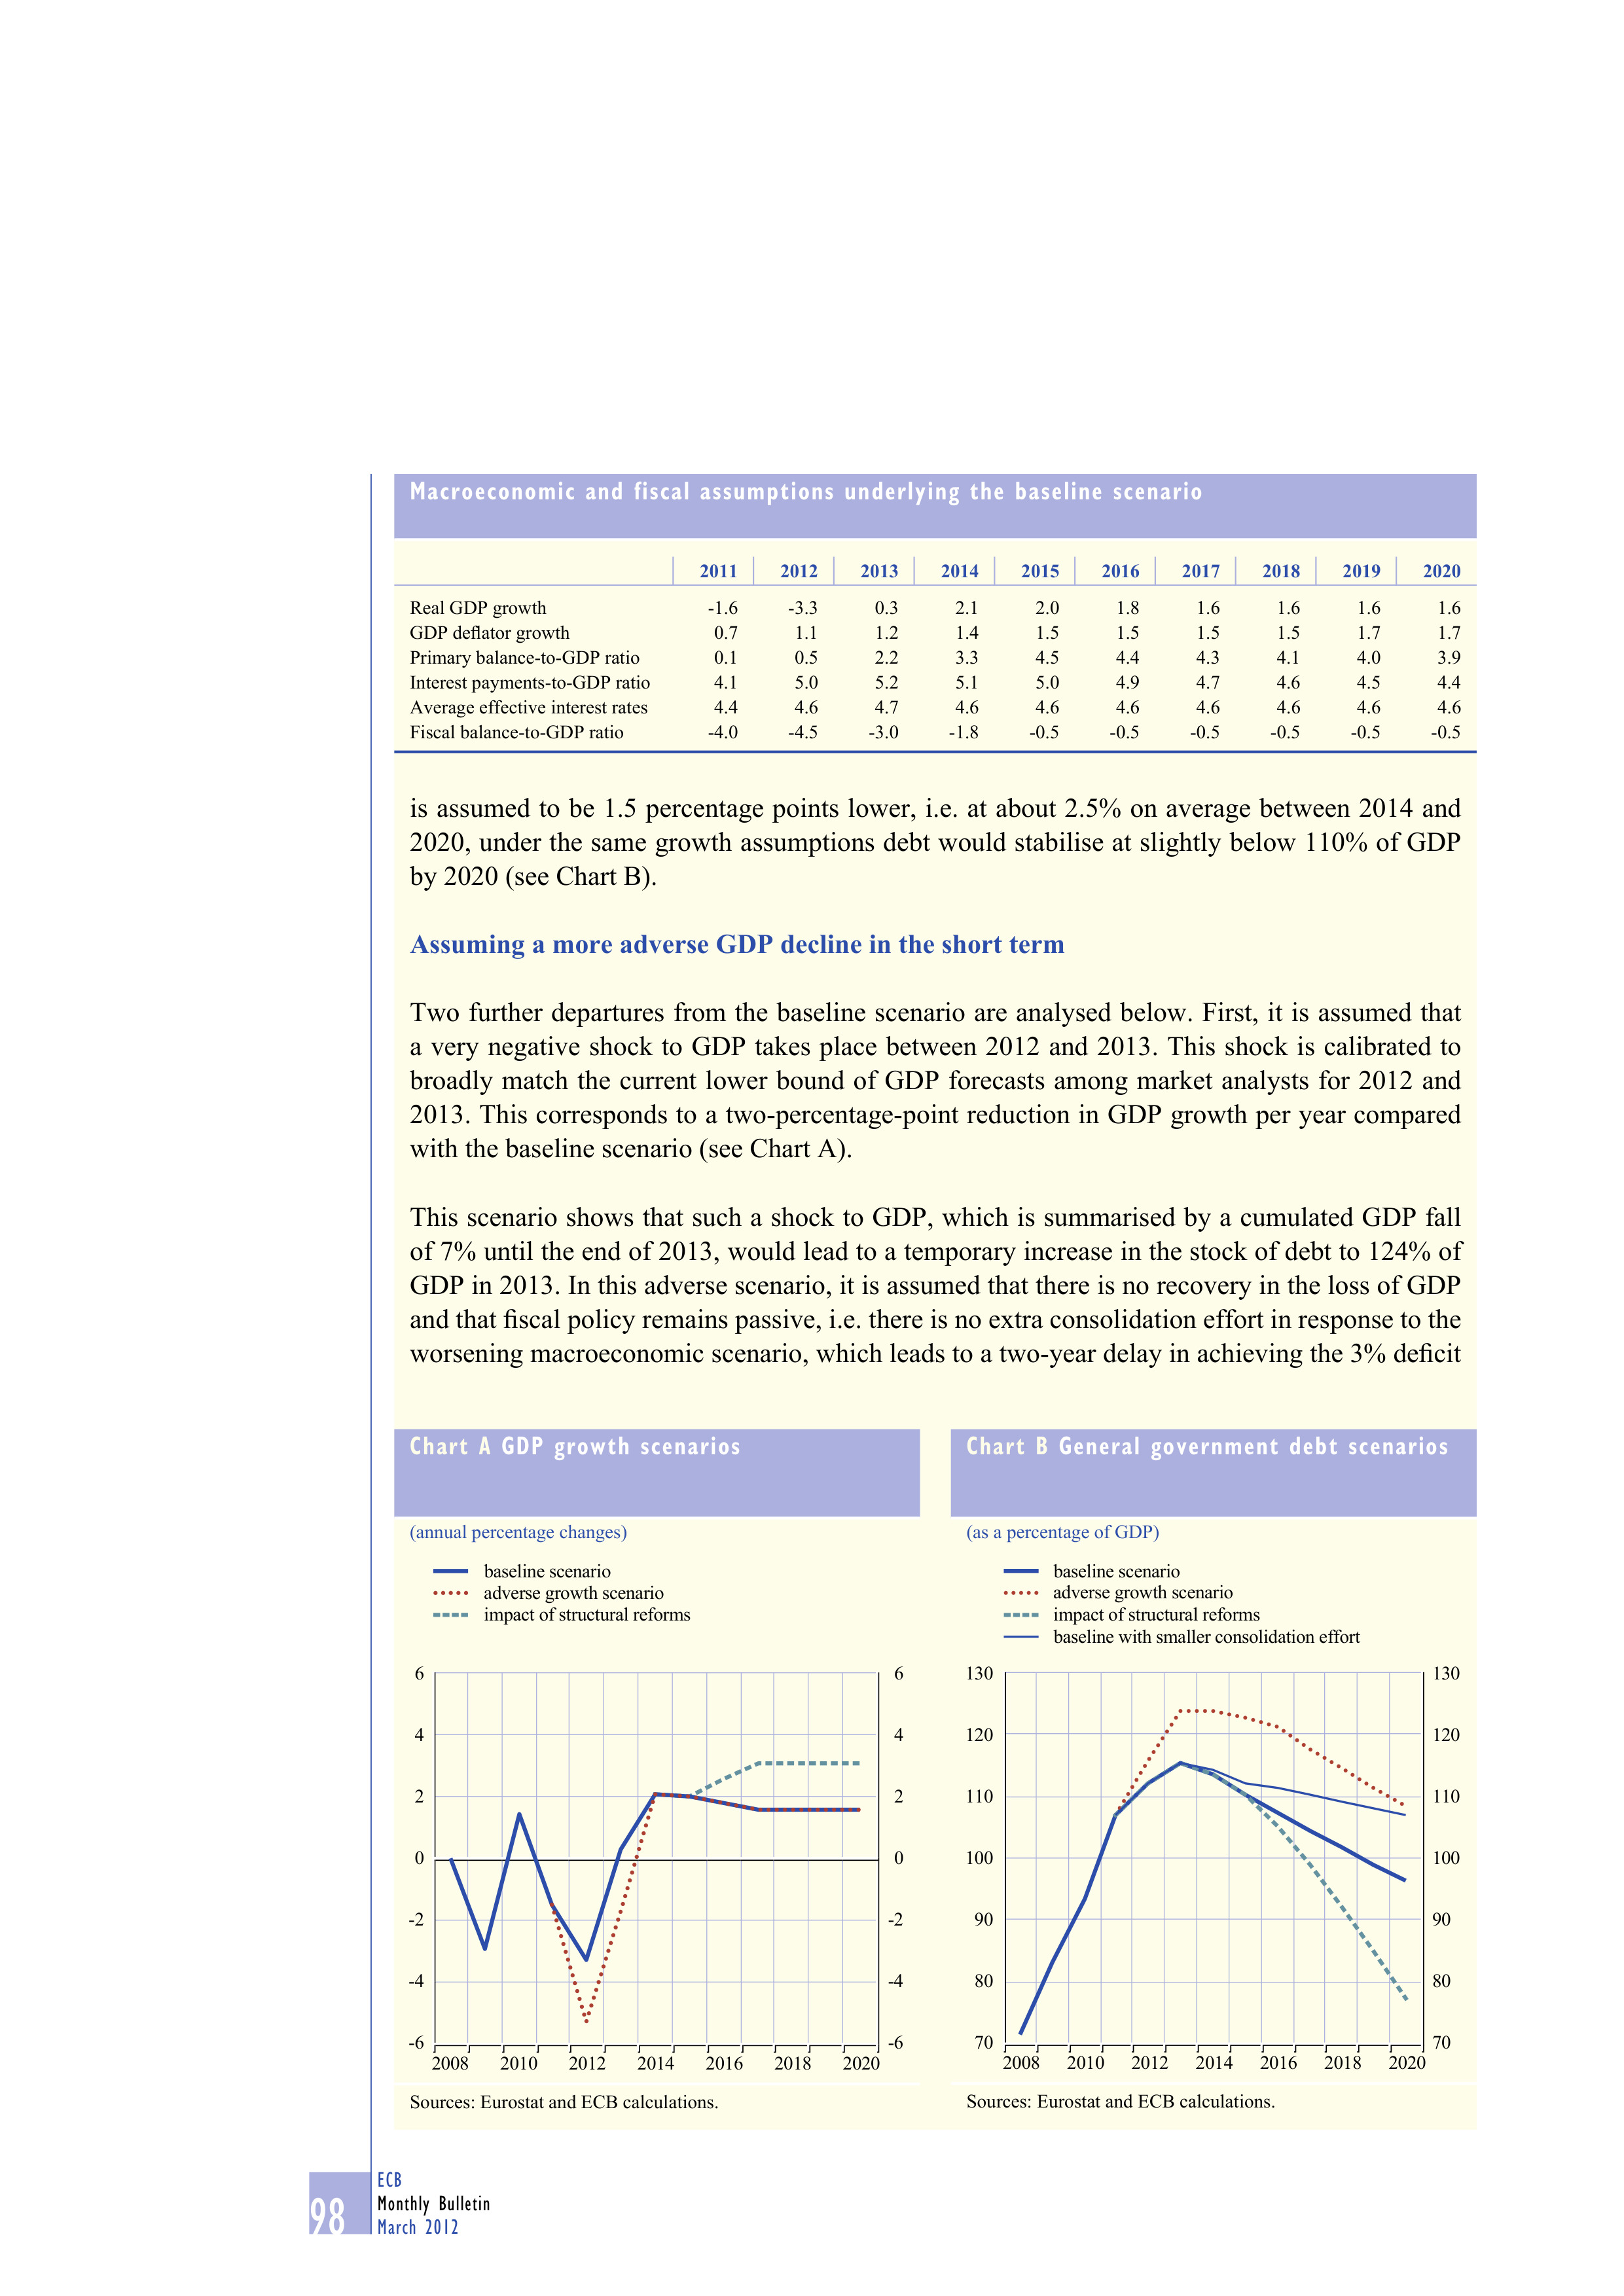table: (410, 562, 1461, 743)
